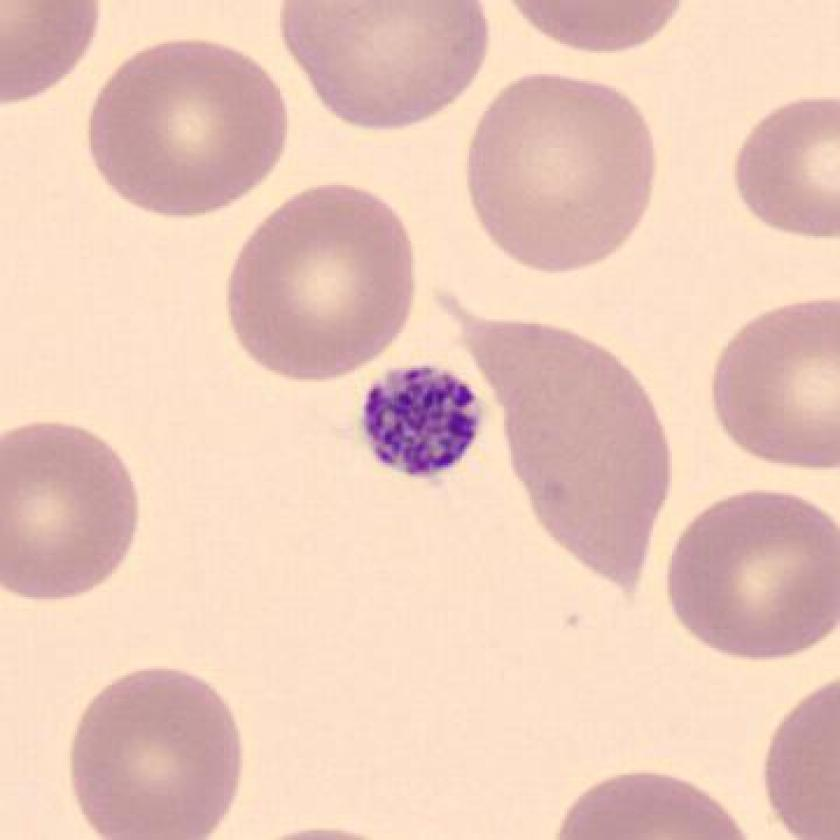platelets: (351, 350, 498, 494)
